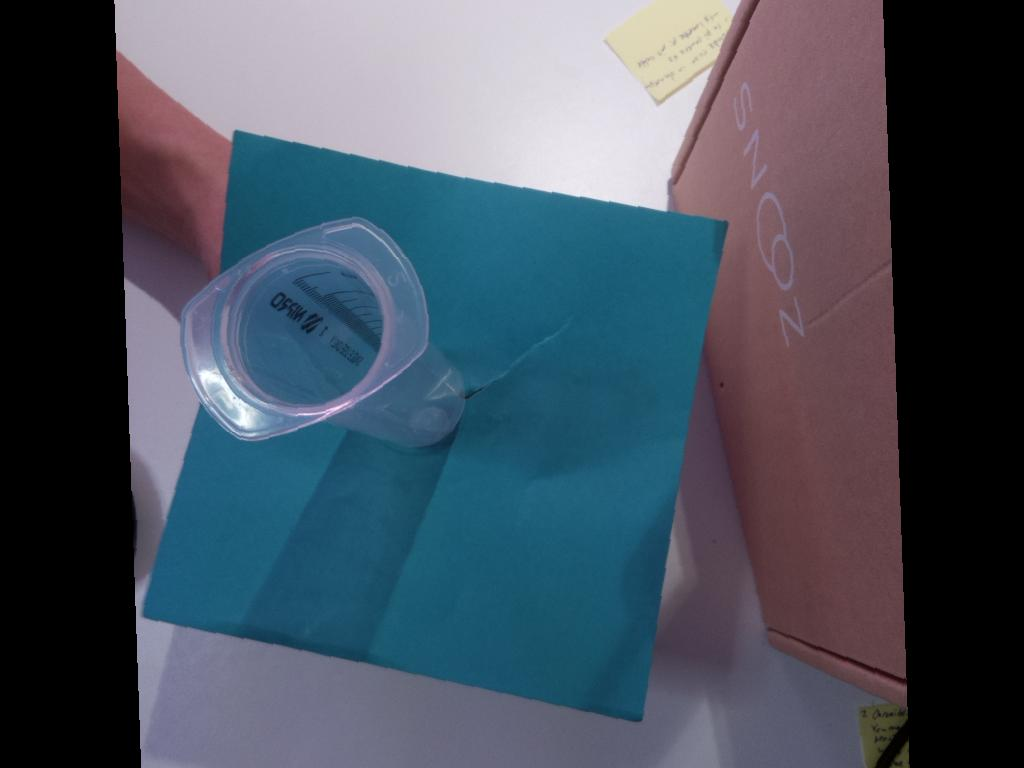clean: (179, 218, 431, 444)
